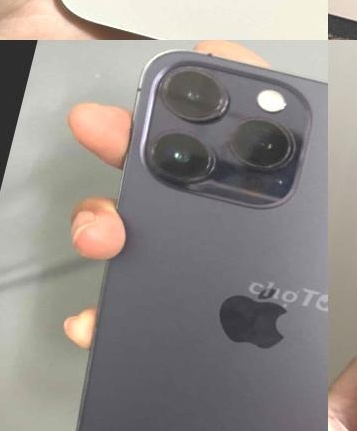physical_damage: (328, 0, 357, 17)
